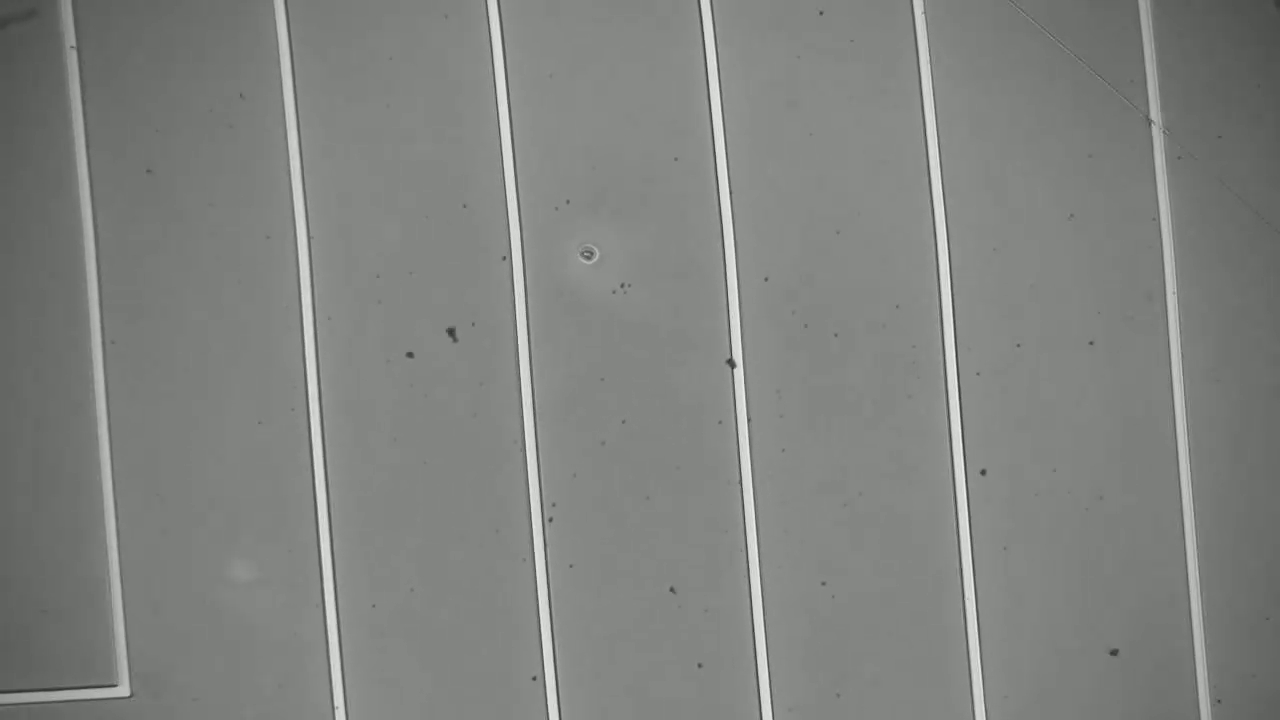scratch: (1041, 29, 1280, 239)
stains_enbedded: (716, 347, 763, 382)
